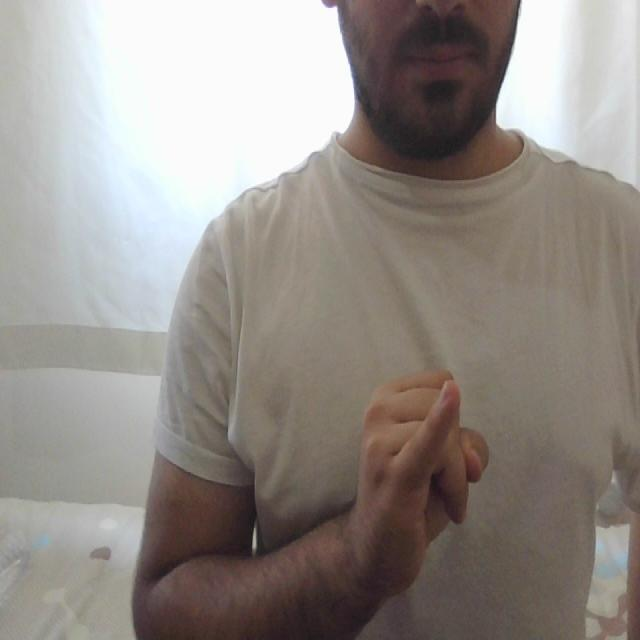kotu: (350, 353, 494, 546)
